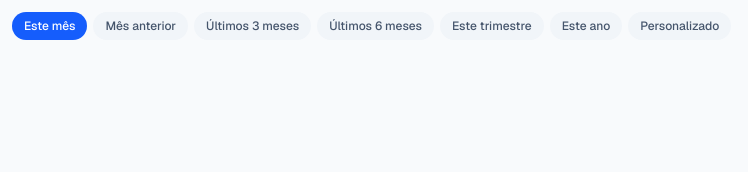
Test: DateRangeFilter › 'Personalizado' revela os campos De/Até
Expected: the field labelled "De" is not shown
Click the button "Personalizado": (680, 26) [628,12,731,40]
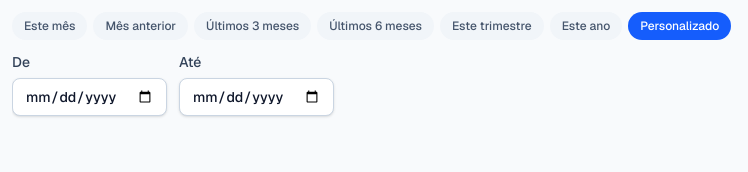
Expected: the date field labelled "De" is shown, [12,78,167,116]
Expected: the date field labelled "Até" is shown, [179,78,334,116]
